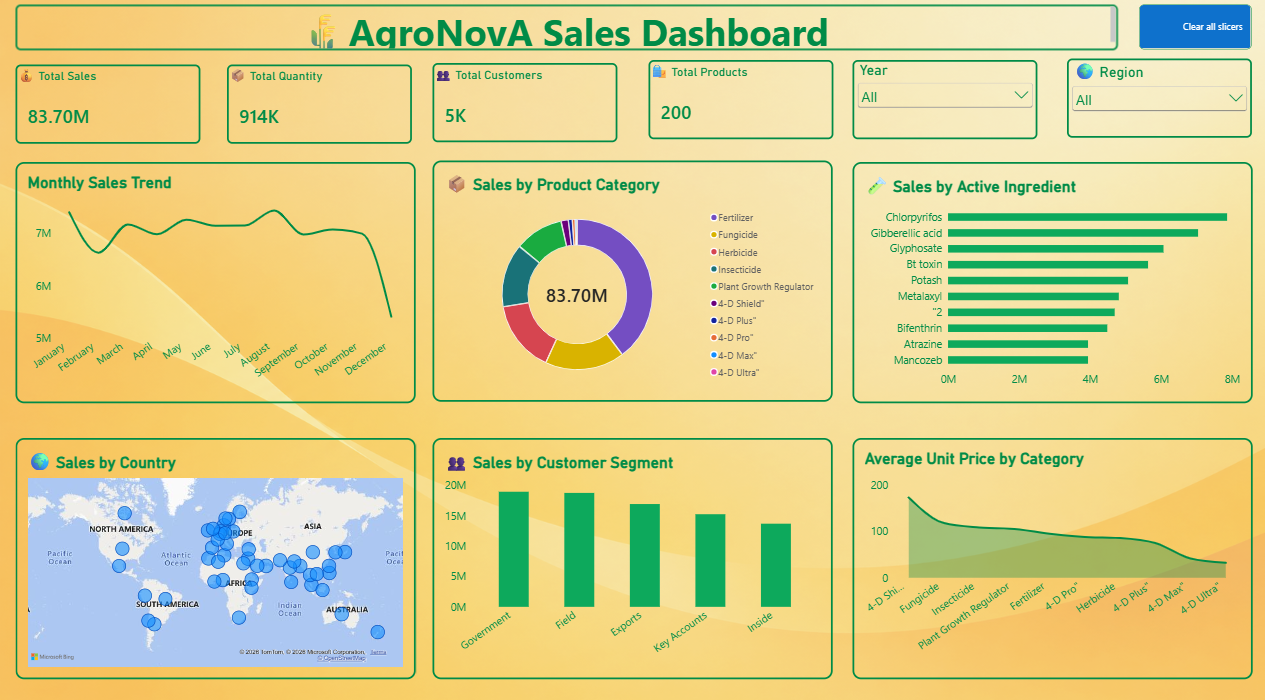

The page's visual inventory and layout, read from the dashboard file:
{"tool":"powerbi","page":{"name":"Overview","canvas":[1920,1080],"ordinal":0},"visuals":[{"type":"textbox","box":[25,15.9,1669,69],"z":0},{"type":"cardVisual","title":"💰 Total Sales","fields":{"Data":["Sum(STG_Fact_Sales.NetSales_USD)"]},"box":[25,106.8,280,120],"z":1000},{"type":"cardVisual","title":"📦 Total Quantity","fields":{"Data":["Sum(STG_Fact_Sales.Quantity)"]},"box":[345.2,106.8,280,120],"z":2000},{"type":"cardVisual","title":"👥 Total Customers","fields":{"Data":["Count(STG_Fact_Sales.CustomerID)"]},"box":[656.4,104.5,280,120],"z":3000},{"type":"cardVisual","title":"🛍️ Total Products","fields":{"Data":["Count(STG_Fact_Sales.ProductID)"]},"box":[983.5,99.9,280,120],"z":4000},{"type":"slicer","fields":{"Values":["STG_Dim_Calendar.Year"]},"box":[1292.4,99.9,280,120],"z":5000},{"type":"lineChart","title":"Monthly Sales Trend","fields":{"Y":["Sum(STG_Fact_Sales.NetSales_USD)"],"Category":["STG_Dim_Calendar.MonthName"]},"box":[25,254.4,606,365],"z":6000},{"type":"map","title":"🌍 Sales by Country","fields":{"Category":["STG_Dim_Country.CountryName"],"Size":["Avg(STG_Fact_Sales.NetSales_USD)"]},"box":[25,672.3,606,365],"z":7000},{"type":"donutChart","title":"📦 Sales by Product Category","fields":{"Category":["STG_Dim_Product.Category"],"Y":["Sum(STG_Fact_Sales.NetSales_USD)"]},"box":[656.4,252.1,606,365],"z":8000},{"type":"clusteredColumnChart","title":"👥 Sales by Customer Channel","fields":{"Category":["STG_Fact_Sales.Channel"],"Y":["Sum(STG_Fact_Sales.NetSales_USD)"]},"box":[656.4,672.3,606,365],"z":9000},{"type":"clusteredBarChart","title":"🧪 Sales by Active Ingredient","fields":{"Category":["STG_Dim_Product.ActiveIngredient"],"Y":["Sum(STG_Fact_Sales.NetSales_USD)"]},"box":[1292.4,254.4,606,365],"z":10000},{"type":"areaChart","title":"Average Unit Price by Category","fields":{"Category":["STG_Dim_Product.Category"],"Y":["Avg(STG_Fact_Sales.UnitPrice_USD)"]},"box":[1292.4,672.3,606,365],"z":11000},{"type":"slicer","fields":{"Values":["STG_Dim_Country.Region"]},"box":[1617.7,98.2,280,120],"z":12000},{"type":"actionButton","title":"Reset","box":[1726.2,15.9,170.3,68.1],"z":13000}]}

Visuals, with their boxes in screenshot pixels (x1, y1, x2, y2), scaled from the page's 1920x1080 canvas onto the 1265x700 screenshot:
textbox: 16/10/1116/55
"💰 Total Sales" cardVisual: 16/69/201/147
"📦 Total Quantity" cardVisual: 227/69/412/147
"👥 Total Customers" cardVisual: 432/68/617/146
"🛍️ Total Products" cardVisual: 648/65/832/143
slicer - STG_Dim_Calendar.Year: 852/65/1036/143
"Monthly Sales Trend" lineChart: 16/165/416/401
"🌍 Sales by Country" map: 16/436/416/672
"📦 Sales by Product Category" donutChart: 432/163/832/400
"👥 Sales by Customer Channel" clusteredColumnChart: 432/436/832/672
"🧪 Sales by Active Ingredient" clusteredBarChart: 852/165/1251/401
"Average Unit Price by Category" areaChart: 852/436/1251/672
slicer - STG_Dim_Country.Region: 1066/64/1250/141
"Reset" actionButton: 1137/10/1250/54
